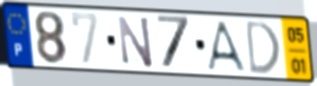7: (154, 13, 193, 73), (68, 10, 105, 68)
8: (33, 9, 71, 67)
A: (205, 19, 249, 74)
D: (244, 19, 282, 77)
N: (116, 14, 155, 71)
